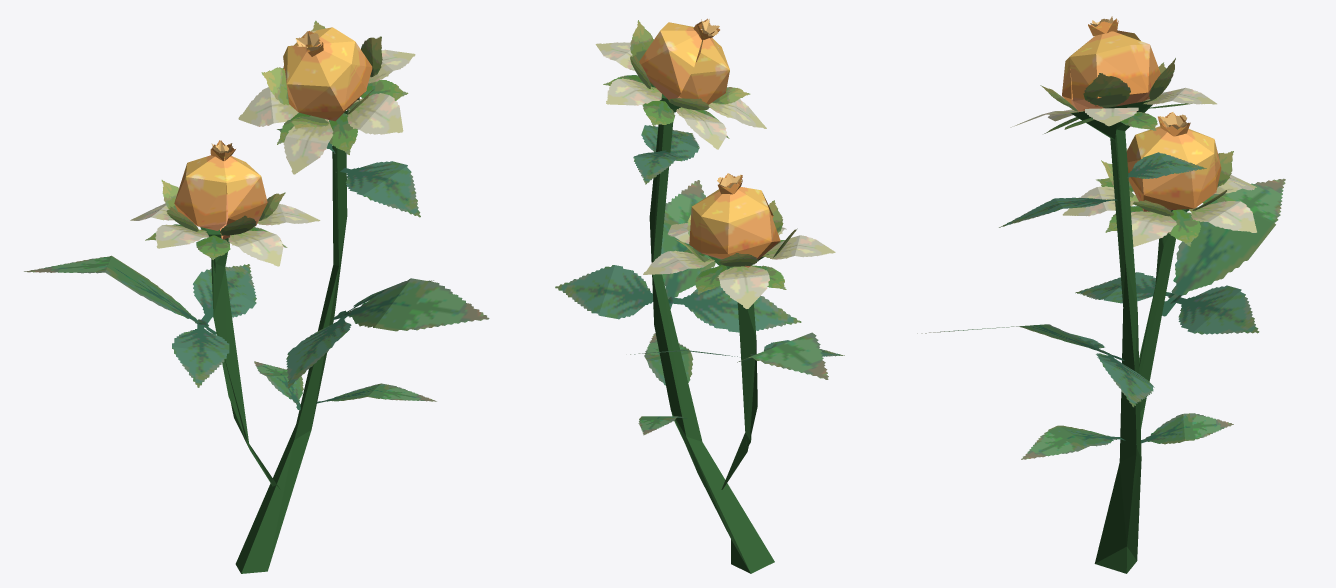
Rendered from gi-Whiteballet01.glb.
3 views of the same model, side by side, from view 1: azimuth 30°, elevation 25°; view 2: azimuth 150°, elevation 25°; view 3: azimuth 270°, elevation 25° (orthographic). The views are drawn at different scales.
Parts seen in each view (by area): view 1: gi-Whiteballet01; view 2: gi-Whiteballet01; view 3: gi-Whiteballet01.
Boxes of the visible parts, x1,y1,x2,y2 form: gi-Whiteballet01: (24, 20, 489, 573); gi-Whiteballet01: (555, 18, 844, 573); gi-Whiteballet01: (917, 16, 1285, 573).
Bounding box in the file's own units: 0.506 × 0.6852 × 0.4583.
Materials: 1 (1 with a texture image).
